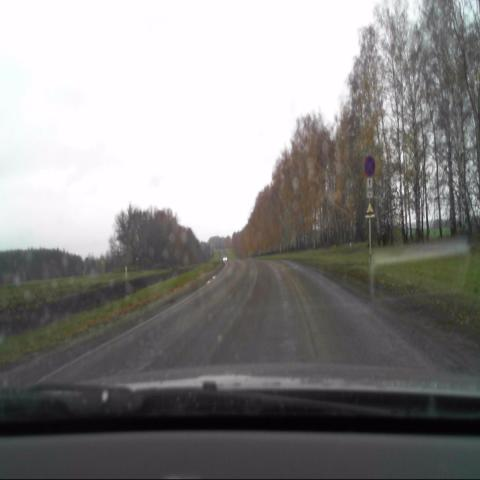3_27: (363, 156, 376, 177)
8_2_2: (367, 177, 373, 199)
